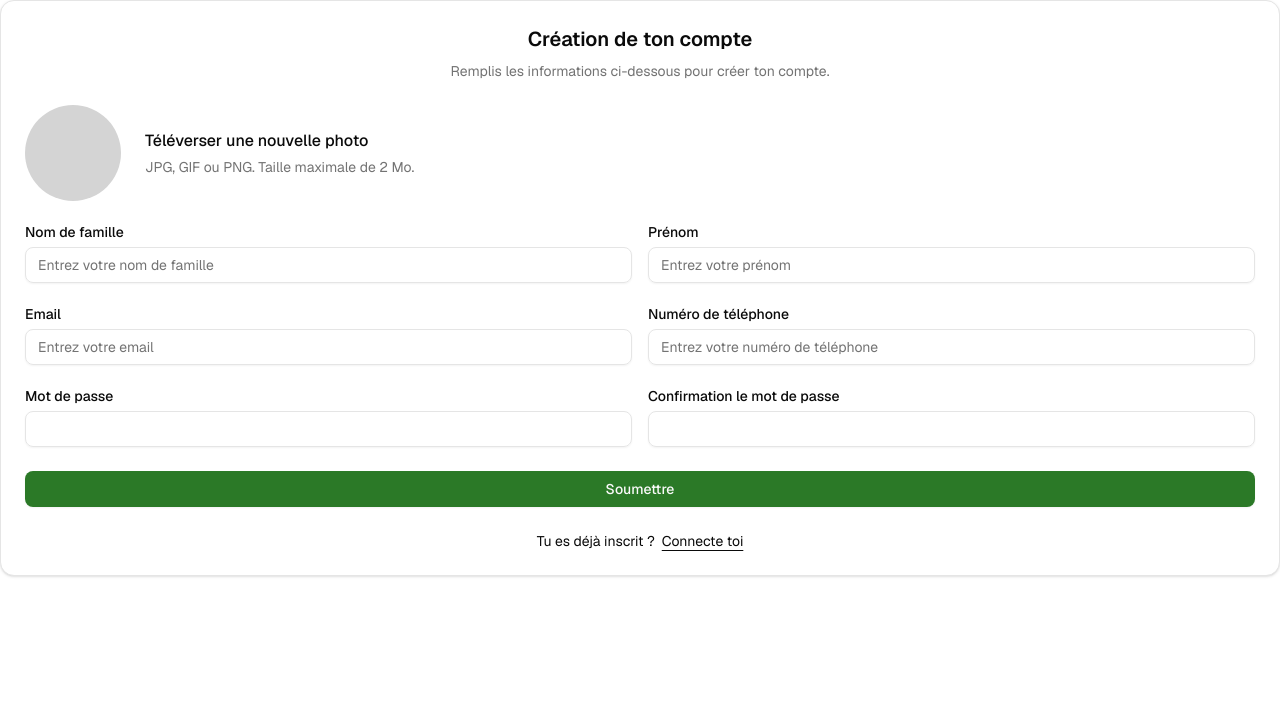
Test: RegisterForm › shows loading state during form submission
// Fill in the form
Type "Doe" into the field with test id "lastName". click: (328, 265)
box: [25,247,632,283]
Type "John" into the field with test id "firstName". click: (952, 265)
box: [648,247,1255,283]
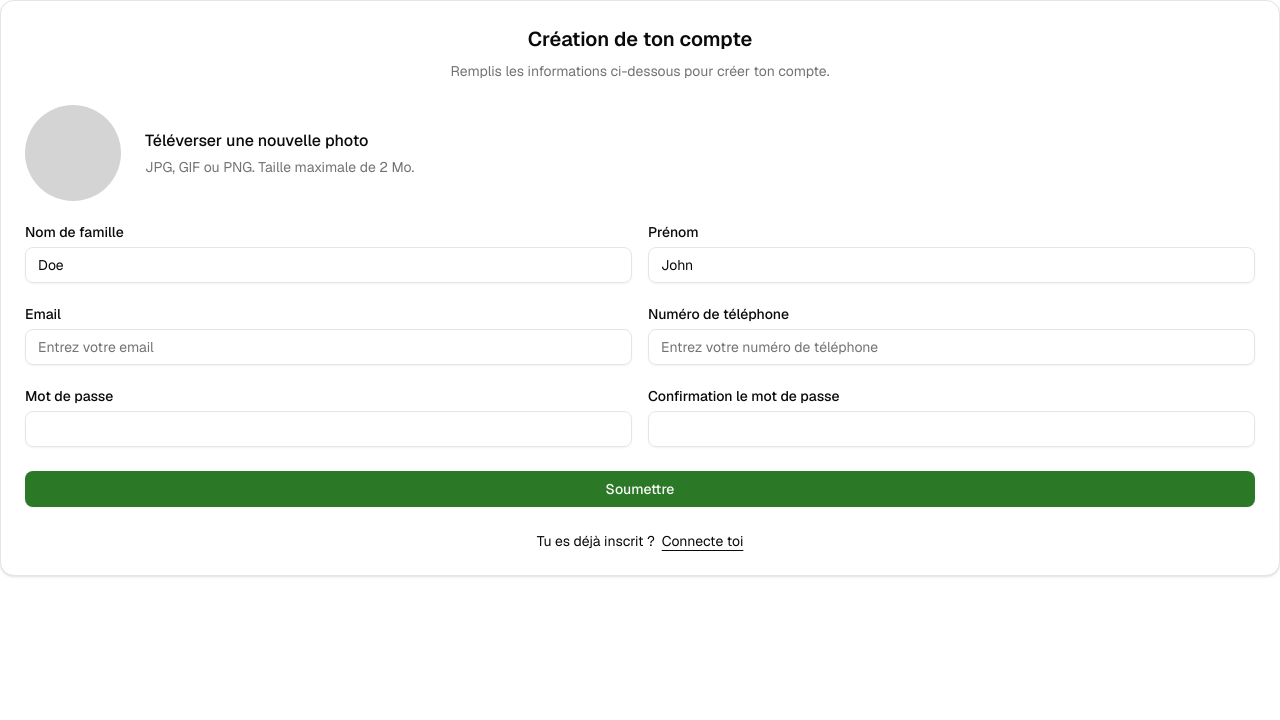
Type "test@example.com" into the field with test id "email". click: (328, 347)
box: [25,329,632,365]
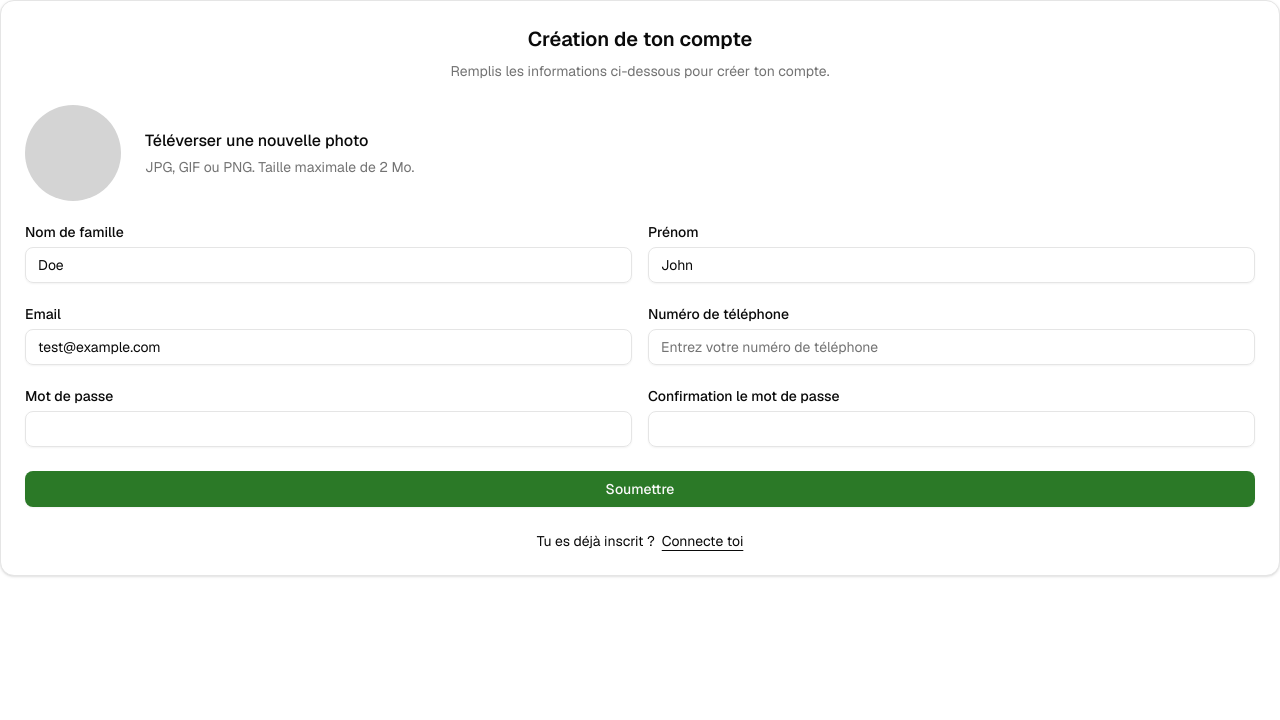
Type "1234567890" into the field with test id "phone". click: (952, 347)
box: [648,329,1255,365]
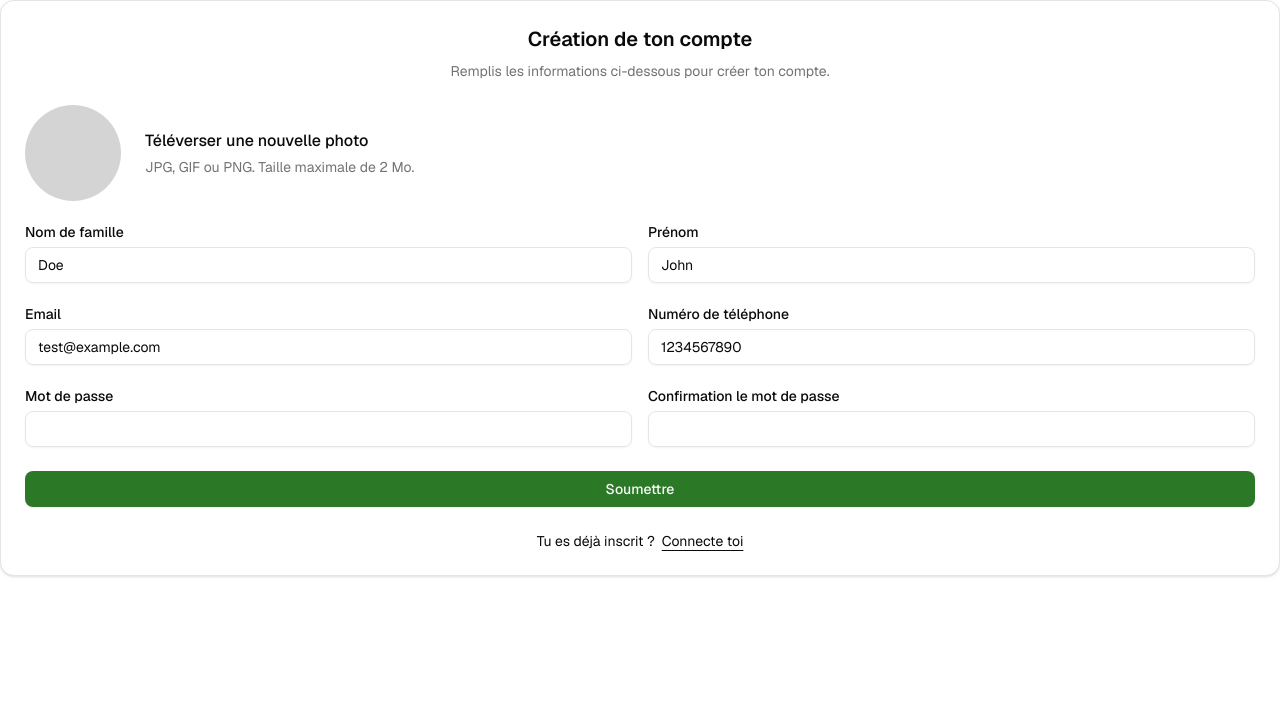
Type "password123" into the password field with test id "password". click: (328, 429)
box: [25,411,632,447]
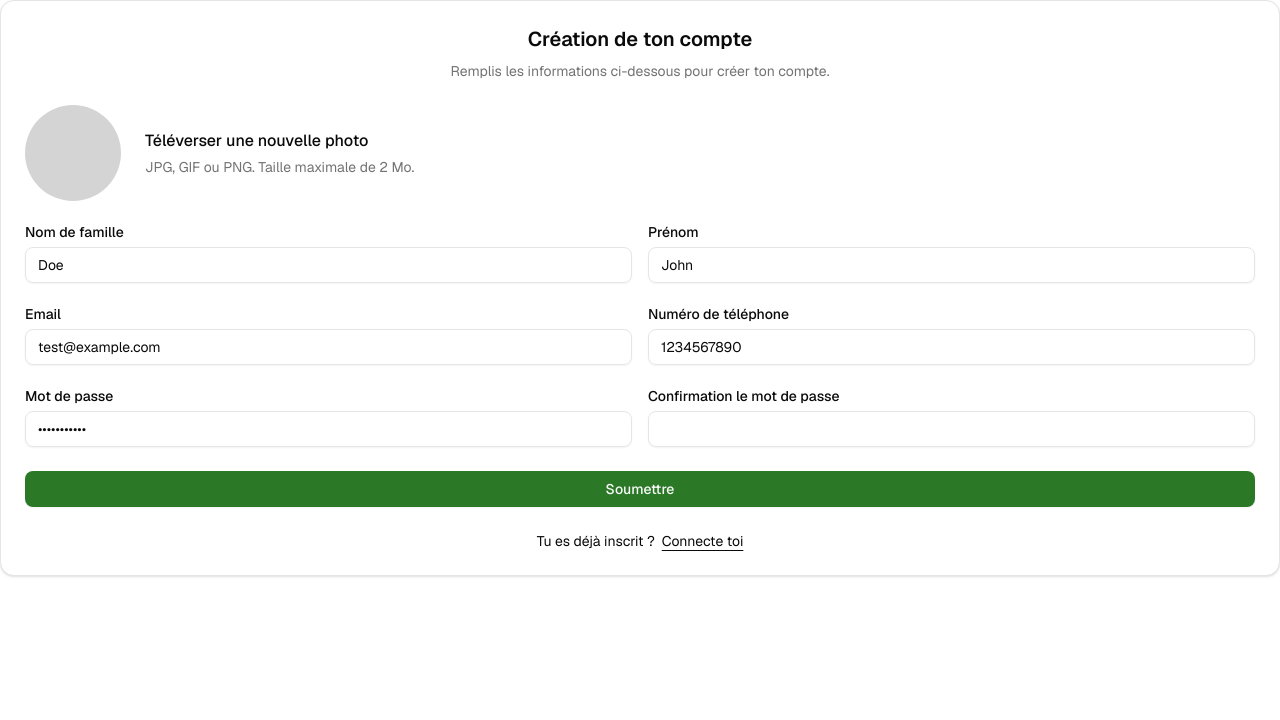
Type "password123" into the password field with test id "confirm-password". click: (952, 429)
box: [648,411,1255,447]
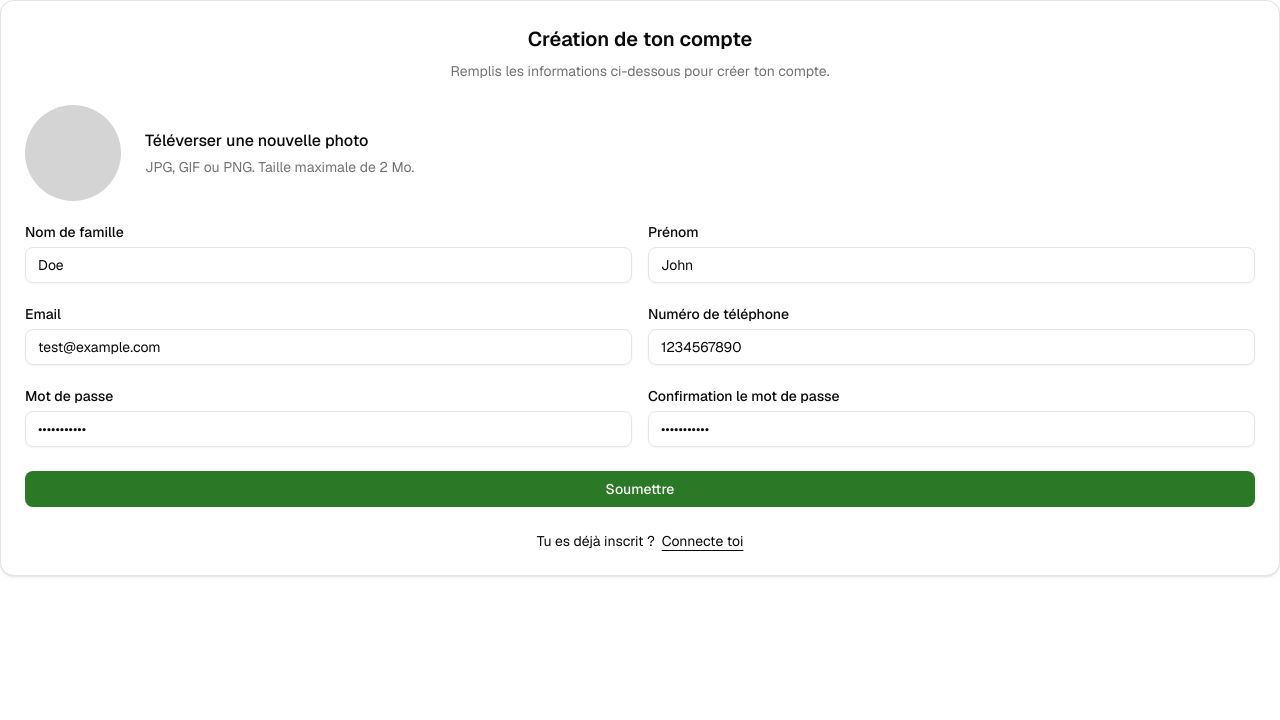
Click the button "Soumettre". click: (640, 489)
box: [25,471,1255,507]
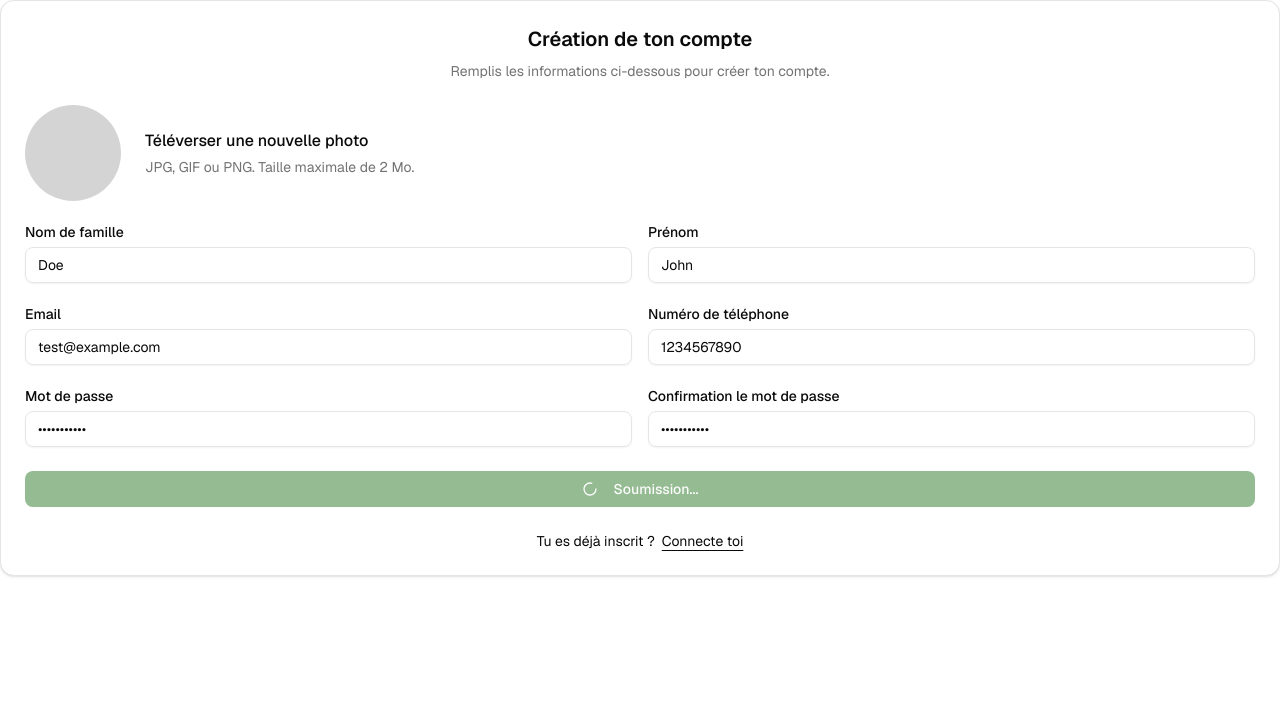
Check: the button is disabled, box [25,471,1255,507]
